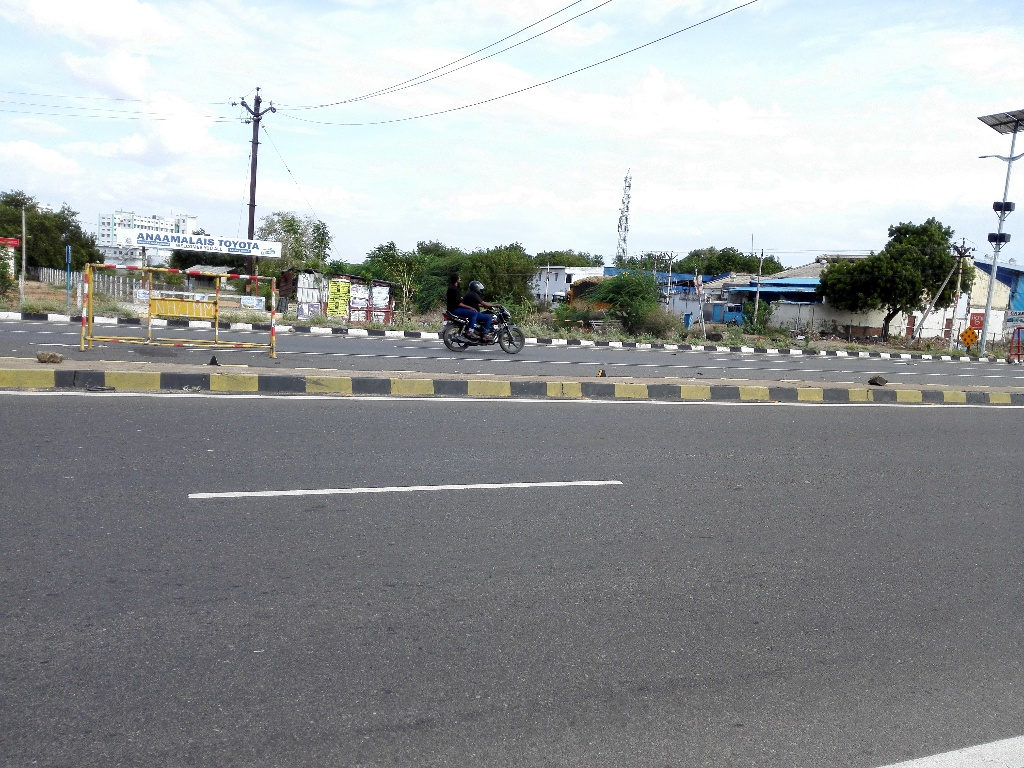biker: (431, 249, 533, 360)
helmet: (467, 276, 488, 300)
nohelmet: (444, 268, 465, 292)
